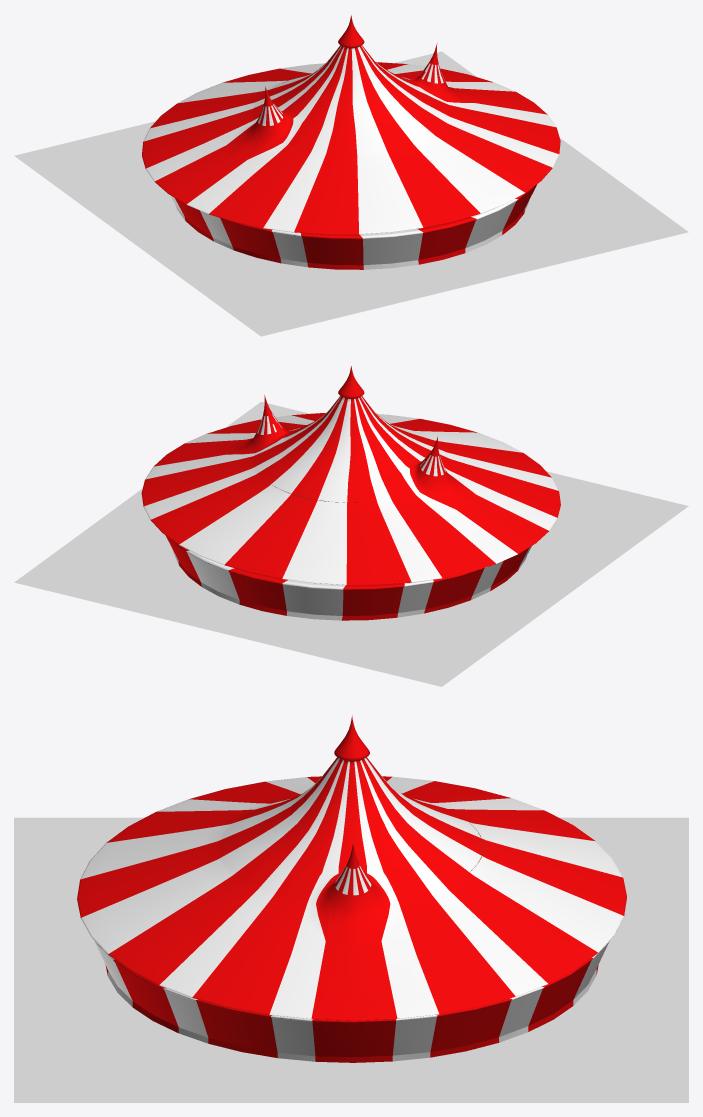
File: Circo.FBX
3 renders of one model, top to bottom at view 1: azimuth 30°, elevation 25°; view 2: azimuth 150°, elevation 25°; view 3: azimuth 270°, elevation 25°, orthographic. The views are drawn at different scales.
Parts seen in each view (by area): view 1: Carpa-circo, Plane001; view 2: Carpa-circo, Plane001; view 3: Carpa-circo, Plane001.
Boxes of the visible parts, <box> form: Carpa-circo: <box>142,15,560,269</box>; Plane001: <box>14,51,688,336</box>; Carpa-circo: <box>141,366,560,620</box>; Plane001: <box>14,402,688,686</box>; Carpa-circo: <box>77,715,626,1062</box>; Plane001: <box>14,817,688,1102</box>.
Bounding box in the file's own units: 5000 × 2008 × 5000.
